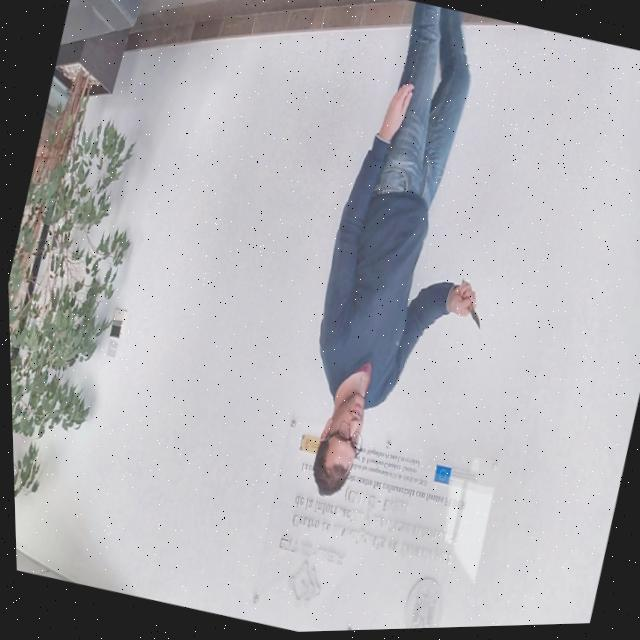knife: (461, 305, 483, 333)
